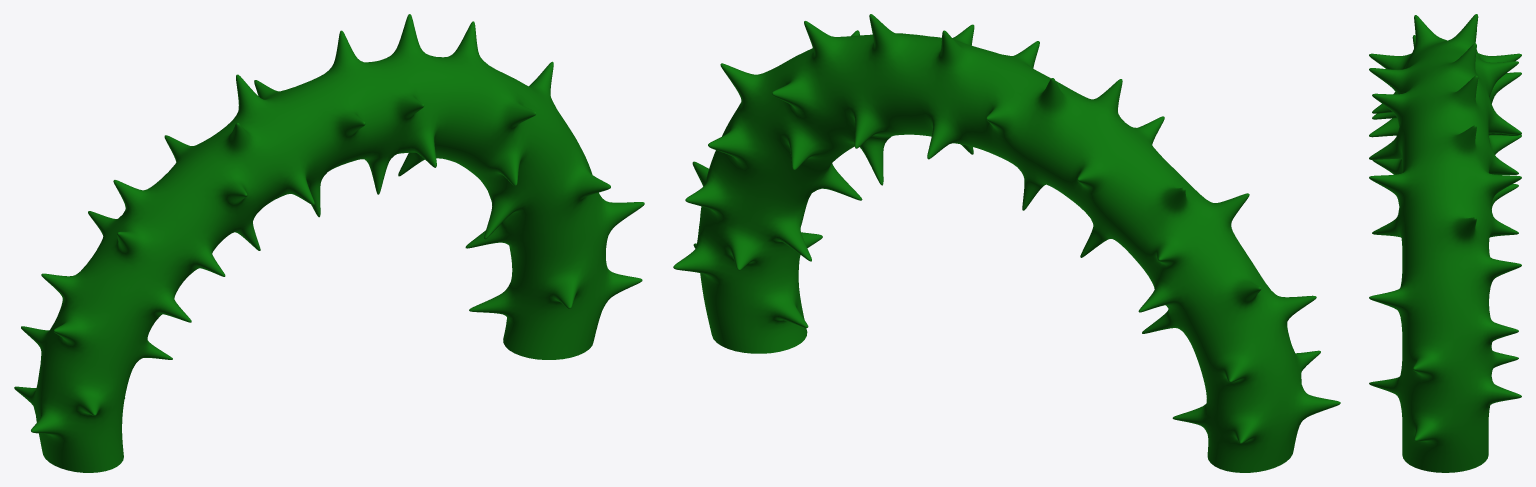
File: Brambles_2.FBX
3 views of the same model, side by side, from view 1: azimuth 30°, elevation 25°; view 2: azimuth 150°, elevation 25°; view 3: azimuth 270°, elevation 25° (orthographic). The views are drawn at different scales.
Visible parts, largest first — view 1: Brambles_2; view 2: Brambles_2; view 3: Brambles_2.
Boxes of the visible parts, x1,y1,x2,y2 form: Brambles_2: (14,14,644,472); Brambles_2: (673,14,1340,472); Brambles_2: (1369,14,1521,472).
Bounding box in the file's own units: 587 × 316 × 135.
